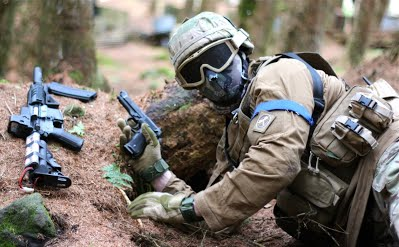gun: (6, 65, 99, 191), (114, 90, 164, 160)
helmet: (163, 10, 255, 70)
